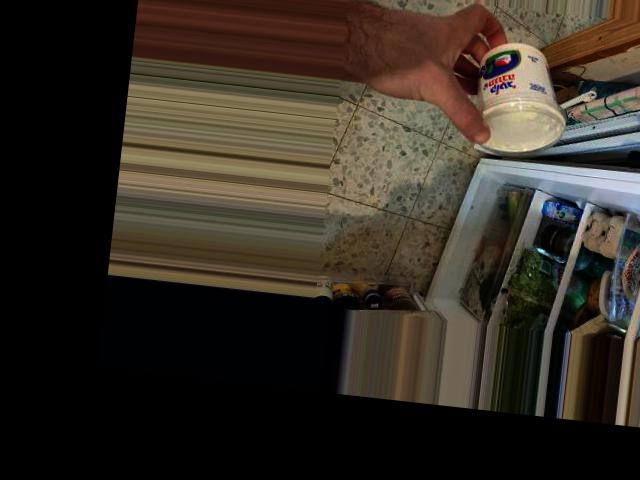cotage: (454, 33, 577, 163)
